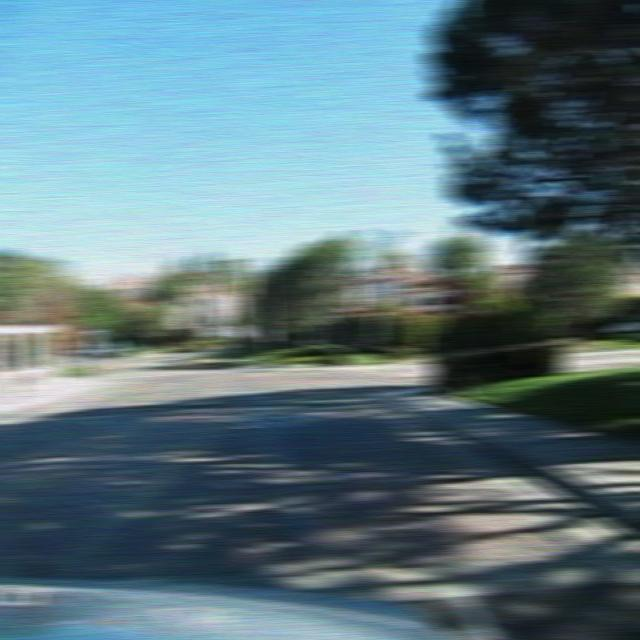stop_sign: (442, 276, 476, 311)
